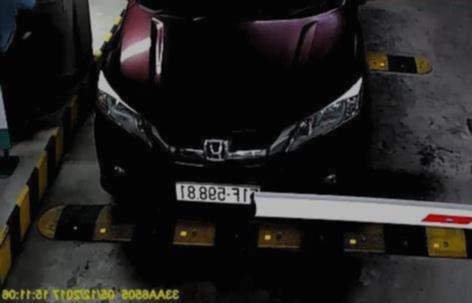License_Plate: (174, 181, 260, 206)
